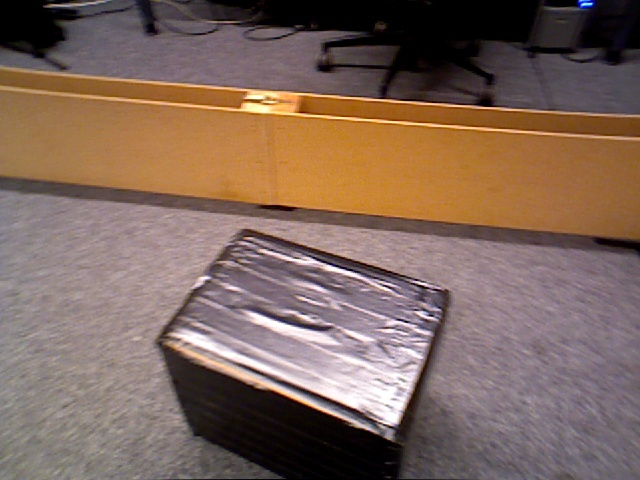push: (156, 229, 449, 475)
